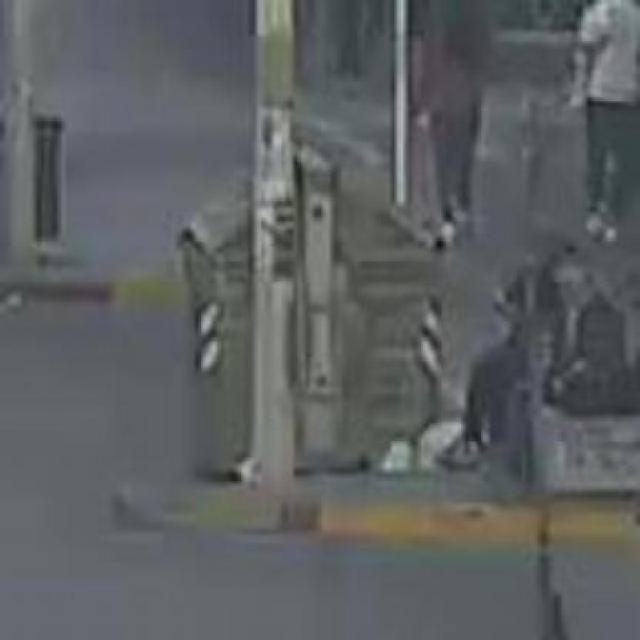garbage: (374, 428, 478, 482)
